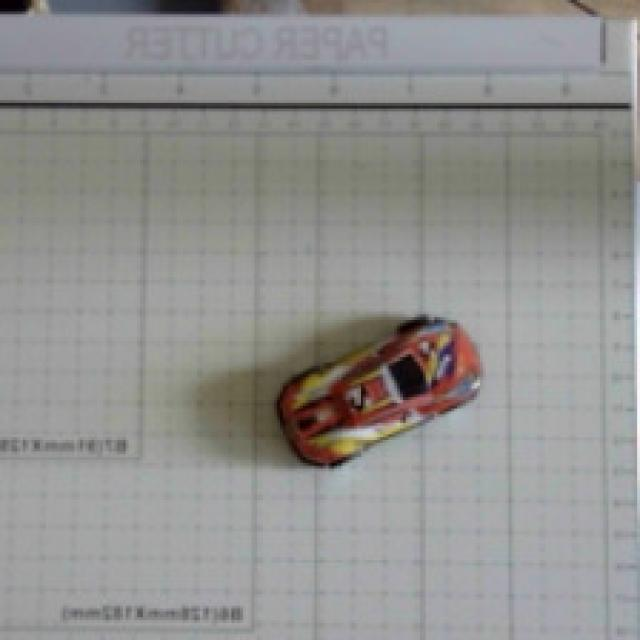Red Car: (235, 275, 516, 497)
